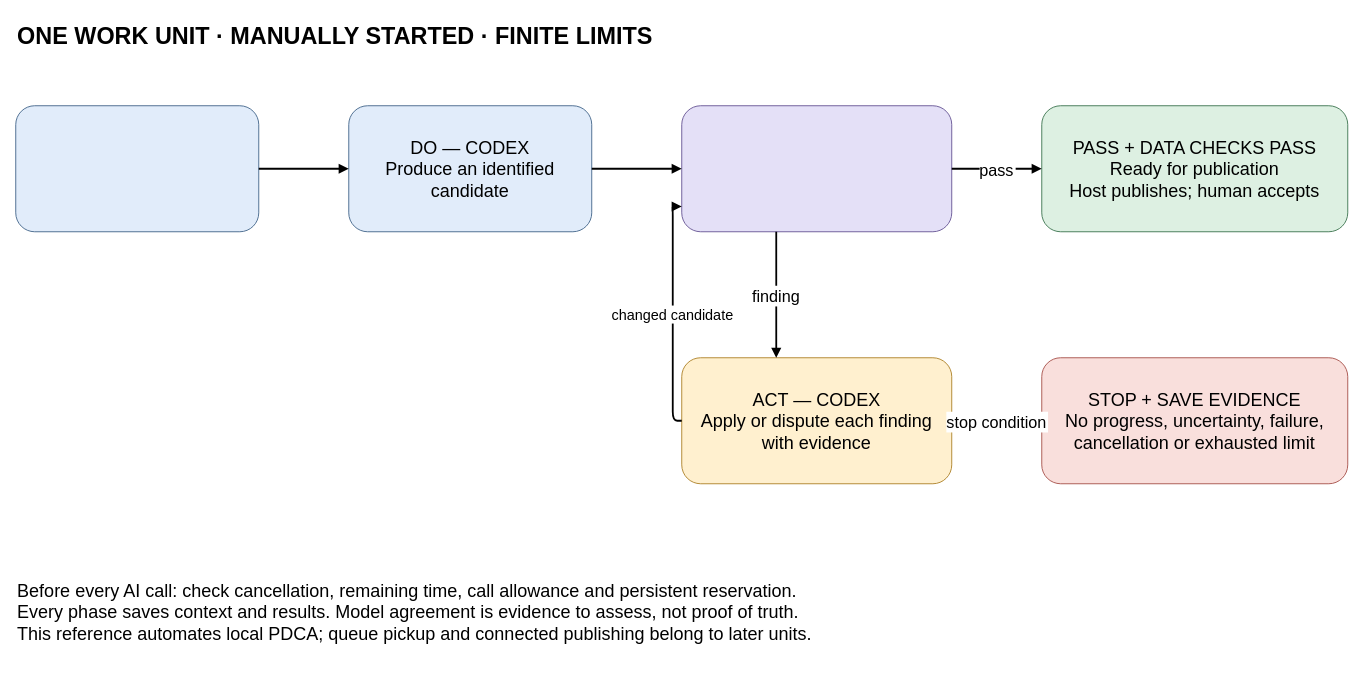
This 1364x688 diagram has some shape labels left out. Here are the shapes that lost their labels. From the top down, the box of each, then its label:
(15, 105, 259, 232): PLAN Original request + sources Owner + finite allowance
(681, 105, 952, 232): CHECK — CLAUDE Original request + candidate + source evidence
